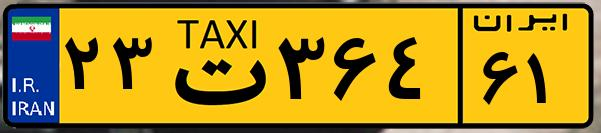1: (525, 38, 570, 115)
2: (57, 26, 110, 100)
3: (270, 28, 330, 110), (110, 28, 158, 98)
4: (385, 28, 445, 110)
6: (330, 28, 385, 110), (475, 38, 525, 113)
ت: (158, 12, 270, 120)
